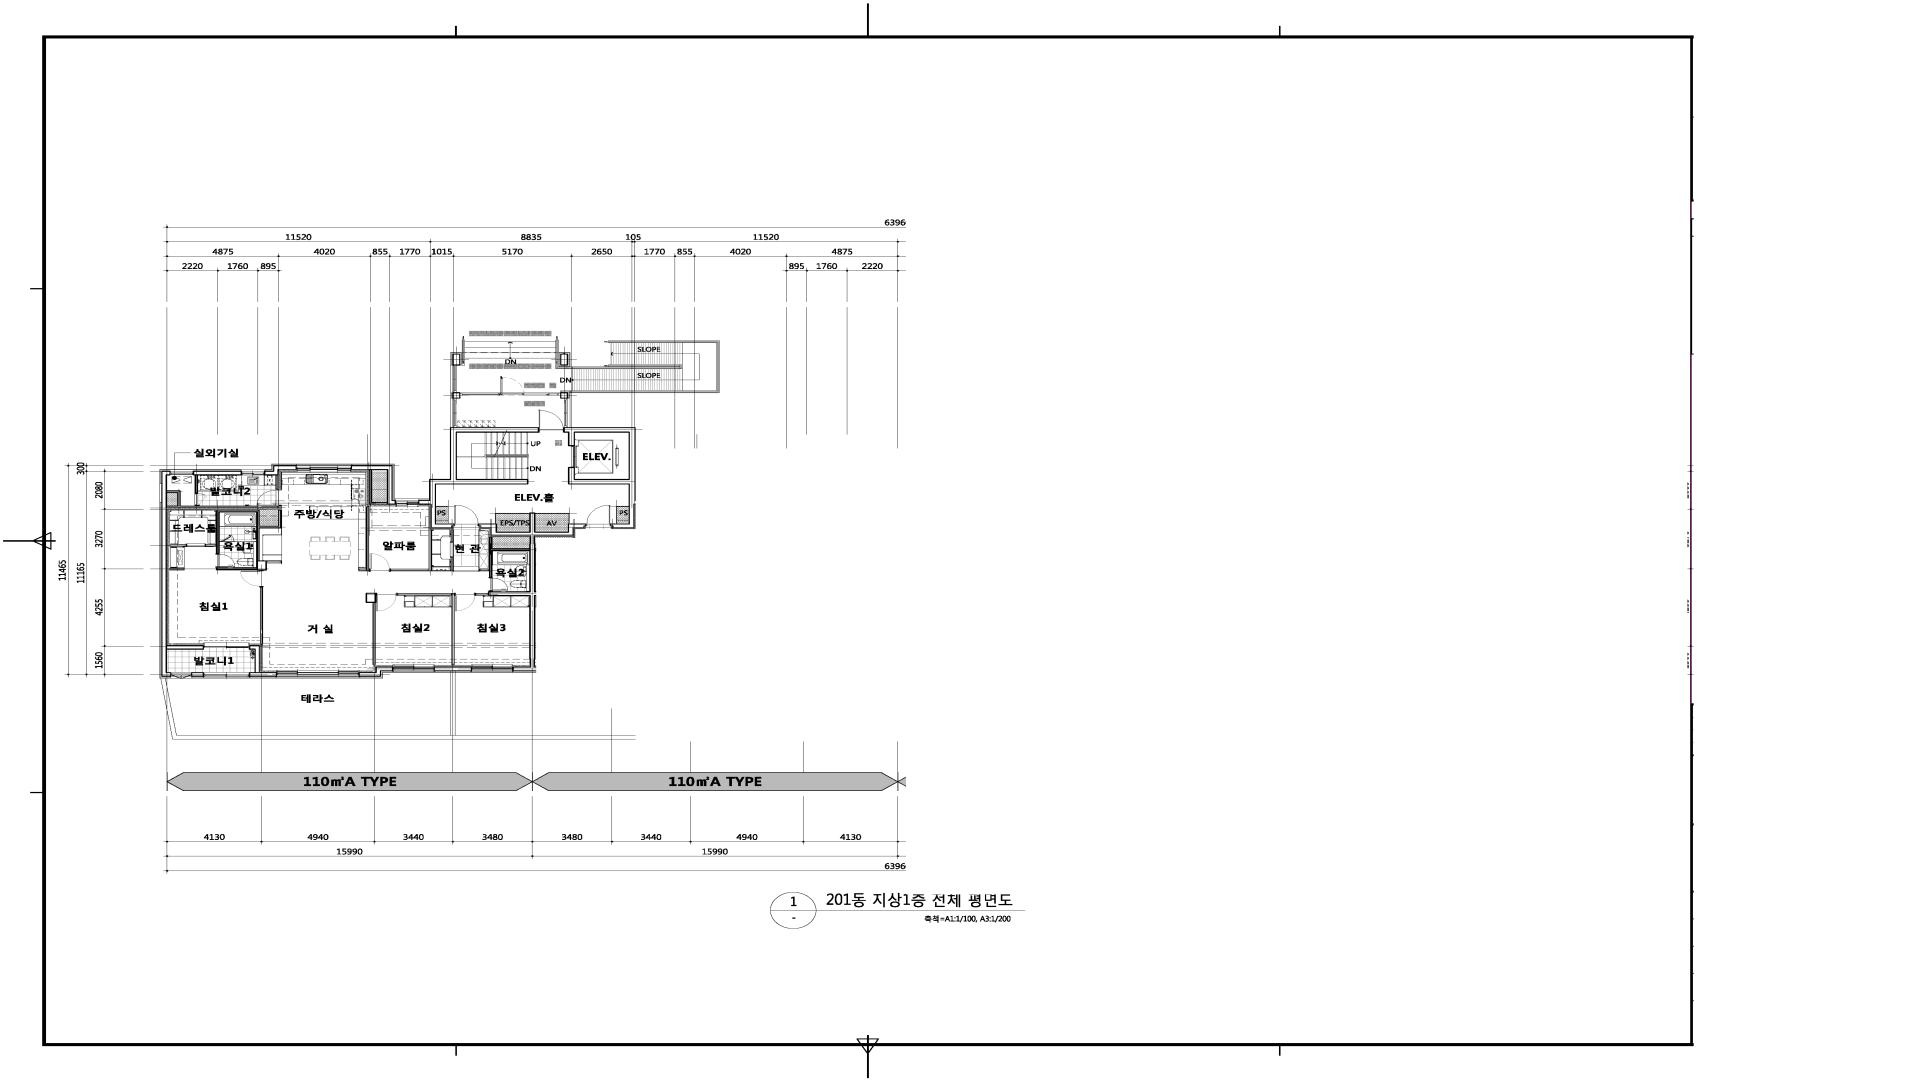door: (538, 410, 563, 433), (454, 505, 479, 526), (587, 505, 611, 526), (500, 376, 525, 396), (376, 593, 397, 612), (455, 593, 475, 612), (369, 554, 390, 571), (240, 570, 262, 585), (257, 491, 278, 506), (489, 578, 508, 592), (216, 554, 235, 567), (195, 495, 207, 506), (220, 534, 235, 542), (186, 543, 206, 547)
wall: (479, 513, 587, 671), (419, 427, 539, 527), (568, 340, 720, 393), (563, 427, 636, 529), (206, 510, 282, 570), (390, 505, 454, 571), (397, 593, 455, 665), (555, 340, 682, 369), (479, 526, 530, 578), (161, 471, 171, 676), (167, 491, 278, 508), (351, 465, 396, 504), (365, 593, 376, 665), (359, 506, 369, 571), (369, 469, 386, 504), (535, 513, 570, 524), (496, 513, 529, 524), (264, 465, 297, 476), (359, 667, 393, 676), (249, 645, 260, 673), (616, 506, 629, 524), (436, 506, 448, 524), (167, 645, 204, 650), (193, 471, 241, 475), (558, 352, 570, 367), (260, 585, 262, 645), (434, 667, 471, 671), (452, 352, 462, 365), (249, 673, 277, 676), (460, 393, 501, 396), (462, 340, 465, 365), (525, 393, 560, 396), (560, 390, 568, 398), (195, 475, 198, 495), (452, 392, 460, 398), (191, 673, 203, 676), (170, 545, 186, 547), (276, 476, 278, 491), (475, 593, 488, 596), (169, 568, 185, 570)
window: (277, 670, 359, 676), (297, 465, 351, 472), (471, 665, 513, 671), (393, 665, 434, 671), (203, 642, 249, 647), (203, 673, 249, 676), (396, 500, 419, 506), (564, 398, 570, 427), (171, 673, 191, 679), (452, 398, 456, 427), (452, 365, 456, 392), (170, 471, 193, 475), (241, 471, 264, 475)
